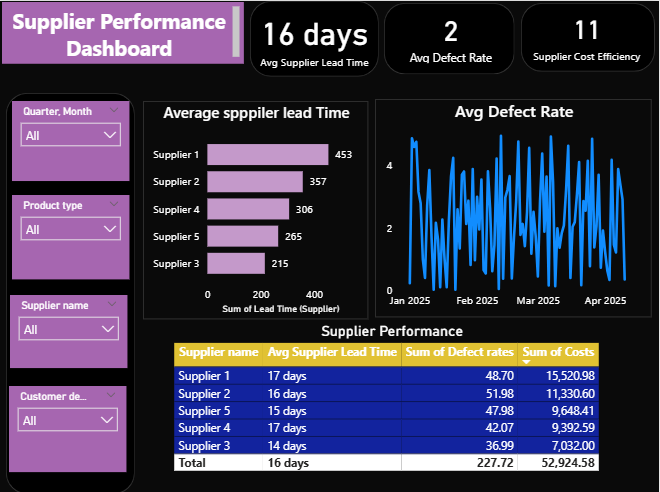

The dashboard page shown, as its layout file describes it:
{"tool":"powerbi","page":{"name":" Dashboard 3","canvas":[758,568],"ordinal":2},"visuals":[{"type":"shape","box":[442,2,150,82],"z":0},{"type":"card","fields":{"Values":["complete_supply_chain_data.Avg Defect Rate"]},"box":[448,3,142,73],"z":1000},{"type":"shape","box":[288,0,148,87],"z":2000},{"type":"shape","box":[600,2,154,79],"z":3000},{"type":"card","fields":{"Values":["complete_supply_chain_data.Avg Supplier Lead Time"]},"box":[290,4,146,79],"z":4000},{"type":"card","fields":{"Values":["complete_supply_chain_data.Supplier Cost Efficiency"]},"box":[598,4,156,72],"z":5000},{"type":"barChart","title":"Average spppiler lead Time","fields":{"Category":["complete_supply_chain_data.Supplier name"],"Y":["Sum(complete_supply_chain_data.Lead Time (Supplier))"]},"box":[166,115,259,251],"z":6000},{"type":"lineChart","title":"Avg Defect Rate","fields":{"Category":["complete_supply_chain_data.OrderDate"],"Y":["Sum(complete_supply_chain_data.Defect rates)"]},"box":[432,113,318,251],"z":7000},{"type":"textbox","box":[4,1,278,71],"z":8000},{"type":"tableEx","title":"Supplier Performance","fields":{"Values":["complete_supply_chain_data.Supplier name","complete_supply_chain_data.Avg Supplier Lead Time","Sum(complete_supply_chain_data.Defect rates)","Sum(complete_supply_chain_data.Costs)"]},"box":[195,369,513,181],"z":9000},{"type":"shape","box":[8,106,148,461],"z":10000},{"type":"slicer","fields":{"Values":["complete_supply_chain_data.OrderDate.Variation.Date Hierarchy.Quarter","complete_supply_chain_data.OrderDate.Variation.Date Hierarchy.Month"]},"box":[15,115,135,92],"z":11000},{"type":"slicer","fields":{"Values":["complete_supply_chain_data.Product type"]},"box":[15,223,135,97],"z":12000},{"type":"slicer","fields":{"Values":["complete_supply_chain_data.Supplier name"]},"box":[13,338,135,84],"z":13000},{"type":"slicer","fields":{"Values":["complete_supply_chain_data.Customer demographics"]},"box":[12,442,135,99],"z":14000}]}

Visuals, with their boxes in screenshot pixels (x1, y1, x2, y2), scaled from the page's 758x568 canvas onto the 660x492 screenshot:
shape: left=385, top=2, right=515, bottom=73
card - complete_supply_chain_data.Avg Defect Rate: left=390, top=3, right=514, bottom=66
shape: left=251, top=0, right=380, bottom=75
shape: left=522, top=2, right=657, bottom=70
card - complete_supply_chain_data.Avg Supplier Lead Time: left=253, top=3, right=380, bottom=72
card - complete_supply_chain_data.Supplier Cost Efficiency: left=521, top=3, right=657, bottom=66
"Average spppiler lead Time" barChart: left=145, top=100, right=370, bottom=317
"Avg Defect Rate" lineChart: left=376, top=98, right=653, bottom=315
textbox: left=3, top=1, right=246, bottom=62
"Supplier Performance" tableEx: left=170, top=320, right=616, bottom=476
shape: left=7, top=92, right=136, bottom=491
slicer - complete_supply_chain_data.OrderDate.Variation.Date Hierarchy.Quarter x complete_supply_chain_data.OrderDate.Variation.Date Hierarchy.Month: left=13, top=100, right=131, bottom=179
slicer - complete_supply_chain_data.Product type: left=13, top=193, right=131, bottom=277
slicer - complete_supply_chain_data.Supplier name: left=11, top=293, right=129, bottom=366
slicer - complete_supply_chain_data.Customer demographics: left=10, top=383, right=128, bottom=469
